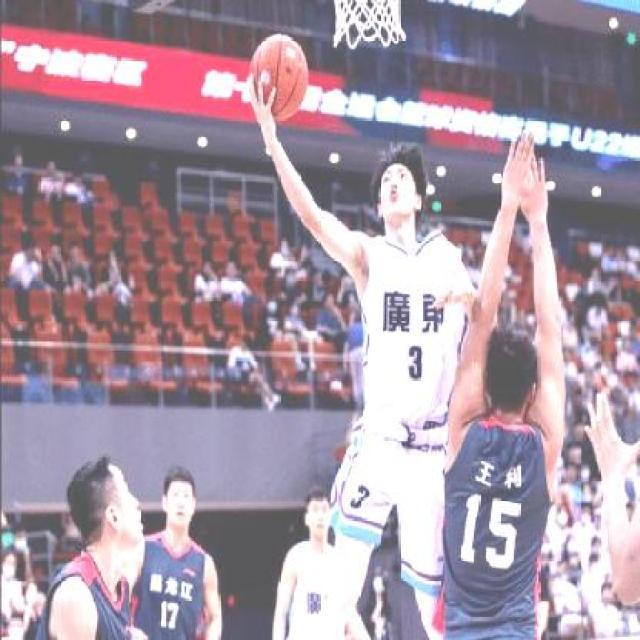Ball: (252, 31, 308, 120)
